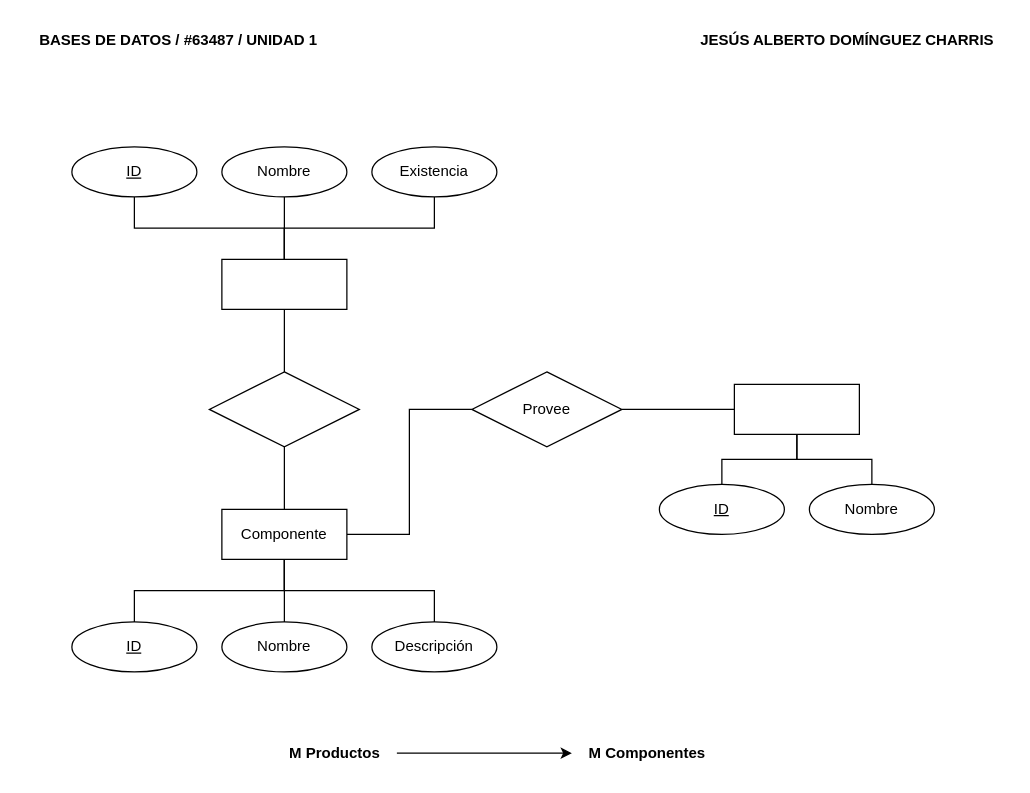
Some shapes in this 1030 by 793 pixel diagram are drawn without their labels. The centre of each missing label's shape, as x and y in pixels:
Contiene: (283,409)
Productos: (284,283)
Proveedor: (796,408)
